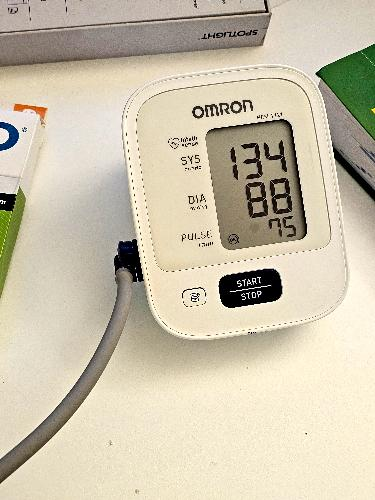bpm: (203, 116, 311, 253)
